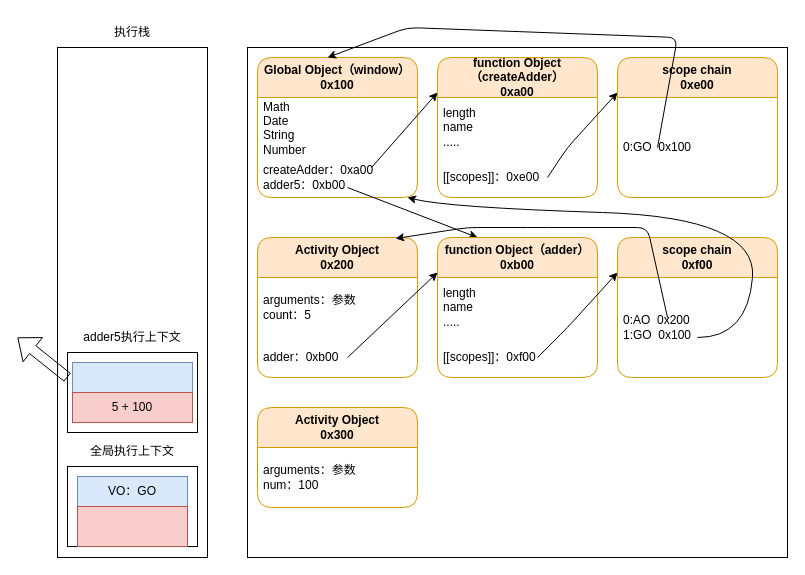
This 805x575 diagram has some shape labels left out. Each missing label, with the centre of its shape:
adder5(100): the point at 132,526
VO：AO scope chain:[AO,GO]: the point at 132,377
